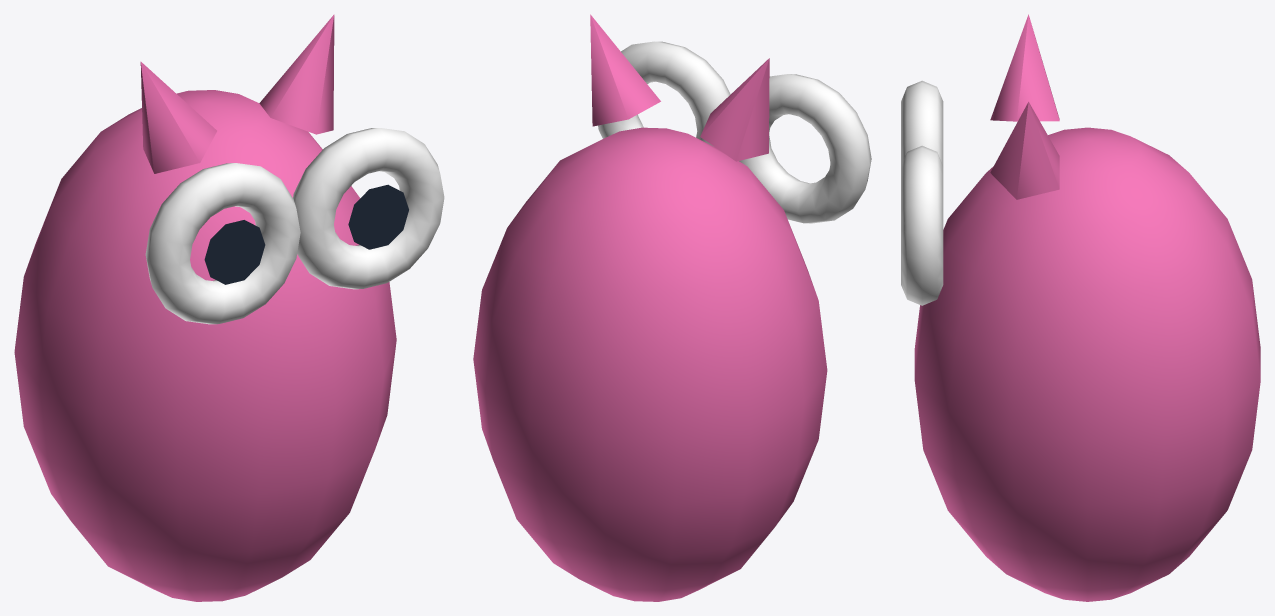
Rendered from creature-museum.glb.
3 renders of one model, left to right at view 1: azimuth 30°, elevation 25°; view 2: azimuth 150°, elevation 25°; view 3: azimuth 270°, elevation 25°, orthographic. The views are drawn at different scales.
Bounding box in the file's own units: 0.6 × 0.9929 × 0.6095.
